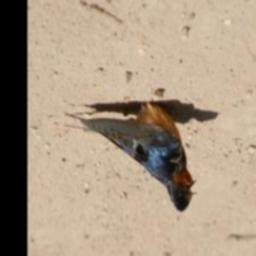Swallow: (65, 105, 197, 214)
